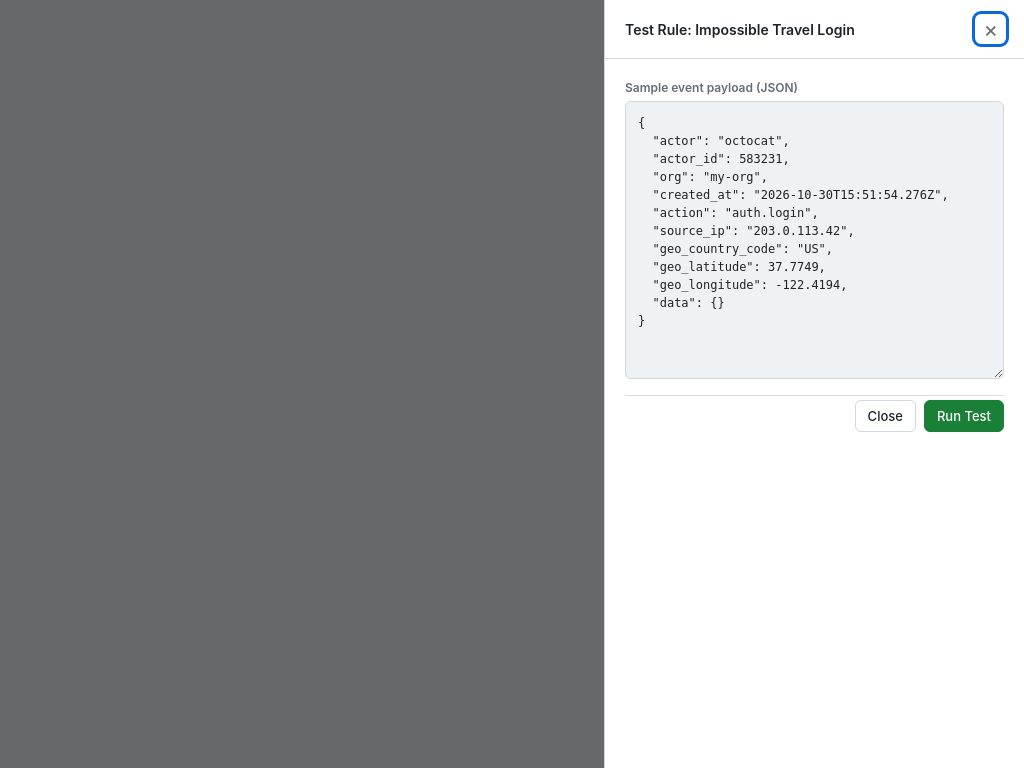
it: TestRuleModal › shows parse error for invalid JSON
Replace the text in the text box labelled "Sample event payload (JSON)" with "not valid json" at (814, 240), box [625, 101, 1004, 379]
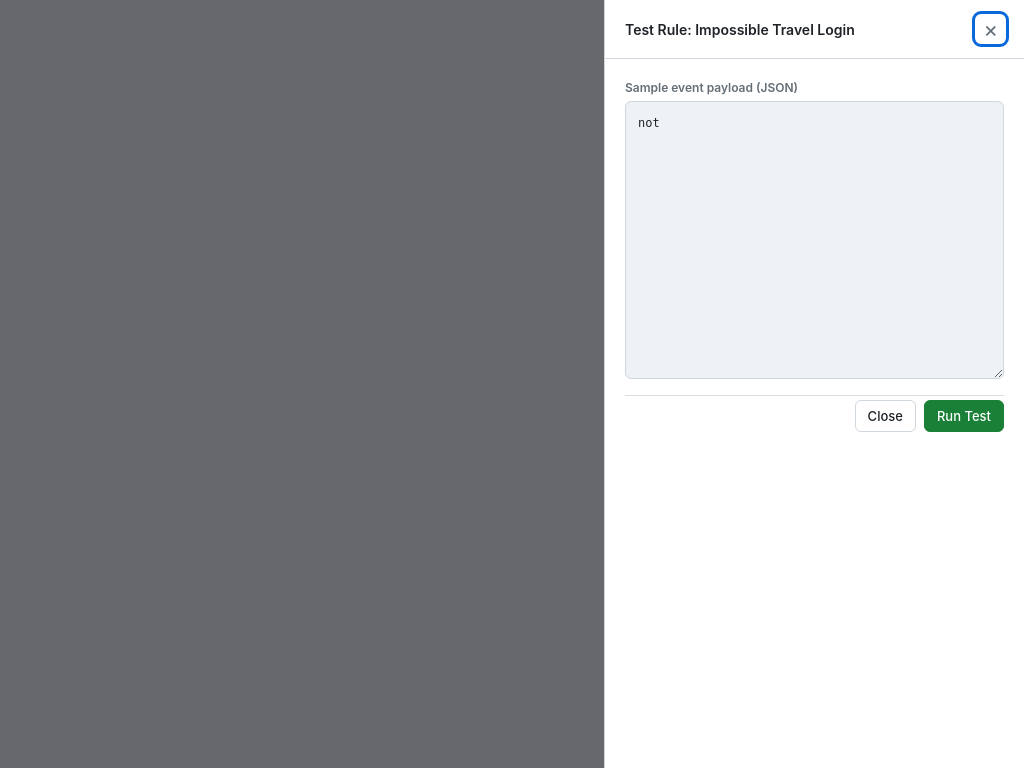
Click the button "Run Test" at (964, 416), box [924, 400, 1004, 432]
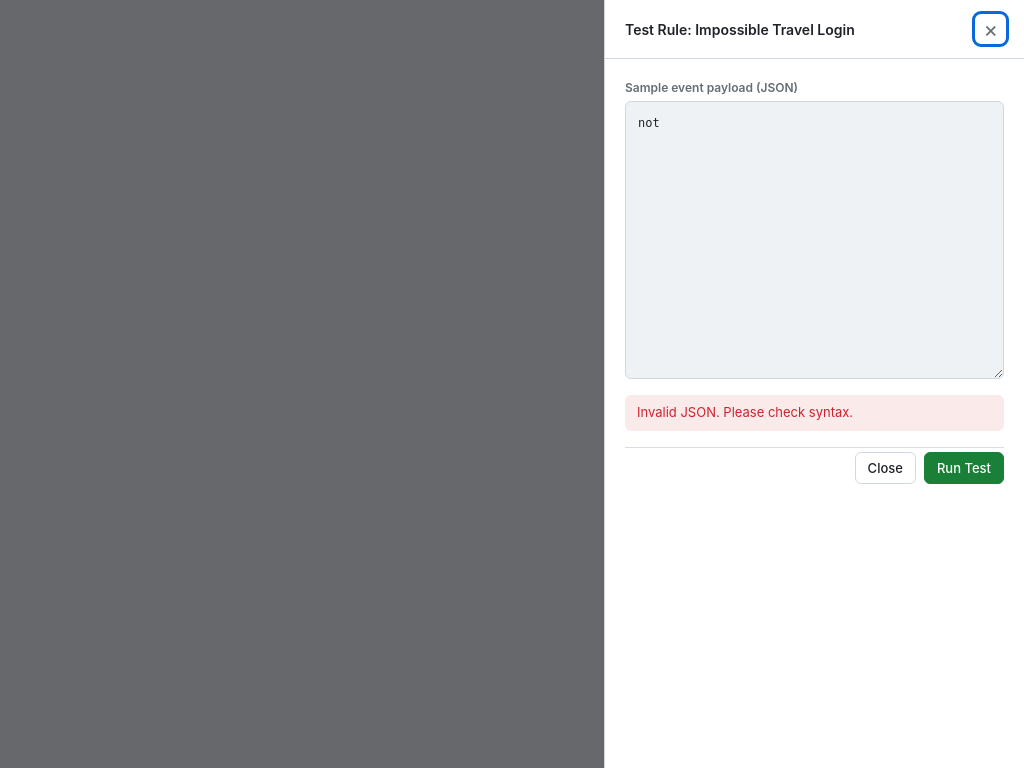
Check: the text "Invalid JSON. Please check syntax." is shown, box [625, 395, 1004, 430]
